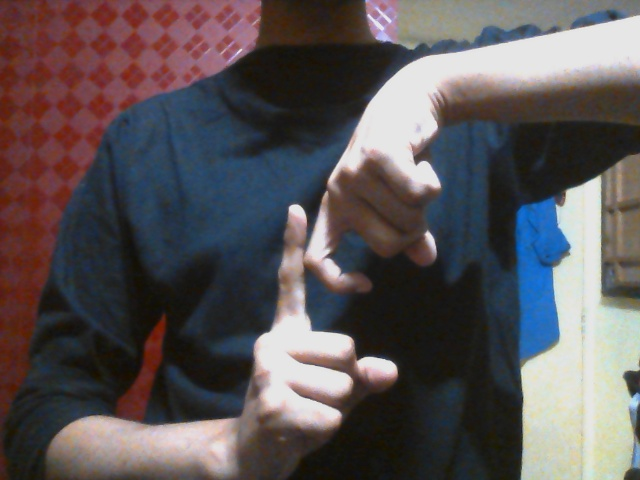K: (241, 135, 441, 458)
